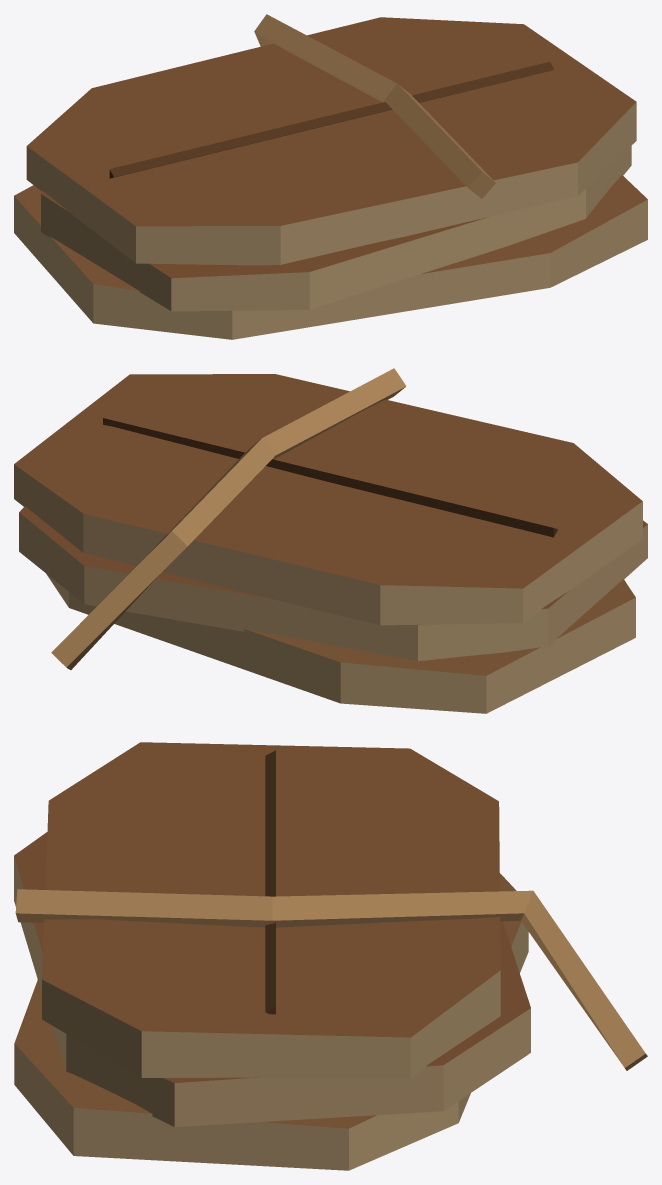
File: storage_worked_hide_dress.glb
The picture shows the model from 3 angles, top to bottom: view 1: azimuth 30°, elevation 25°; view 2: azimuth 150°, elevation 25°; view 3: azimuth 270°, elevation 25°; orthographic projection. The views are drawn at different scales.
Visible parts, largest first — view 1: storage_worked_hide_dress; view 2: storage_worked_hide_dress; view 3: storage_worked_hide_dress.
Part boxes in pixels (x1,y1,x2,y2): storage_worked_hide_dress: (14, 14, 647, 339); storage_worked_hide_dress: (14, 368, 647, 713); storage_worked_hide_dress: (14, 742, 647, 1170).
Size of the model in its own units: 1.2 by 0.295 by 1.05.
